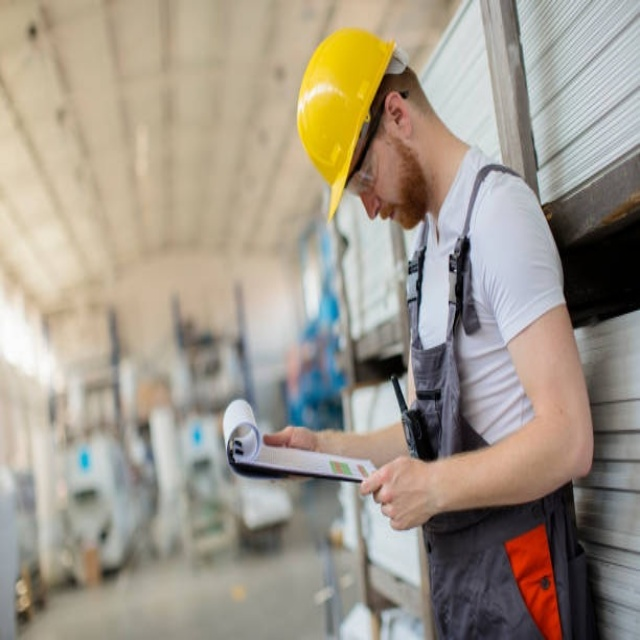Gafas: (348, 85, 404, 193)
Sin_guantes: (358, 452, 437, 532), (261, 424, 319, 452)
Sin_mascara: (379, 196, 414, 232)
